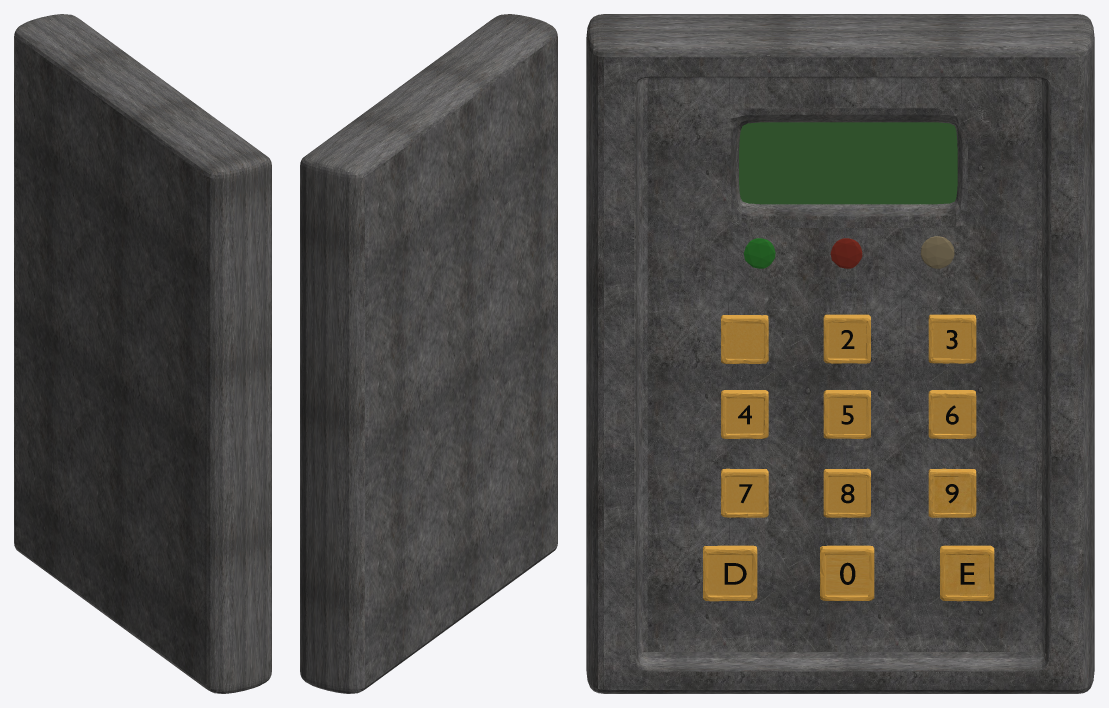
The model's file is keypad-lock.glb.
3 renders of one model, left to right at view 1: azimuth 30°, elevation 25°; view 2: azimuth 150°, elevation 25°; view 3: azimuth 270°, elevation 25°, orthographic. The views are drawn at different scales.
Visible parts, largest first — view 1: body; view 2: body; view 3: body, lcd, btn_enter, btn_clr, btn_0, btn_3, btn_9, btn_2, btn_6, btn_1, btn_5, btn_8 (+5 smaller).
Part boxes in pixels (left/top/right/bottom): body: left=14, top=14, right=271, bottom=693; body: left=300, top=14, right=557, bottom=693; body: left=586, top=14, right=1094, bottom=693; lcd: left=739, top=122, right=957, bottom=204; btn_enter: left=940, top=545, right=994, bottom=601; btn_clr: left=703, top=545, right=757, bottom=601; btn_0: left=820, top=545, right=874, bottom=600; btn_3: left=928, top=314, right=976, bottom=363; btn_9: left=928, top=468, right=976, bottom=517; btn_2: left=823, top=314, right=870, bottom=363; btn_6: left=928, top=390, right=976, bottom=438; btn_1: left=721, top=315, right=768, bottom=363; btn_5: left=823, top=390, right=870, bottom=438; btn_8: left=823, top=468, right=870, bottom=517.
Bounding box in the file's own units: 0.0255 × 0.2 × 0.1406.
14 materials, 9 textured.
